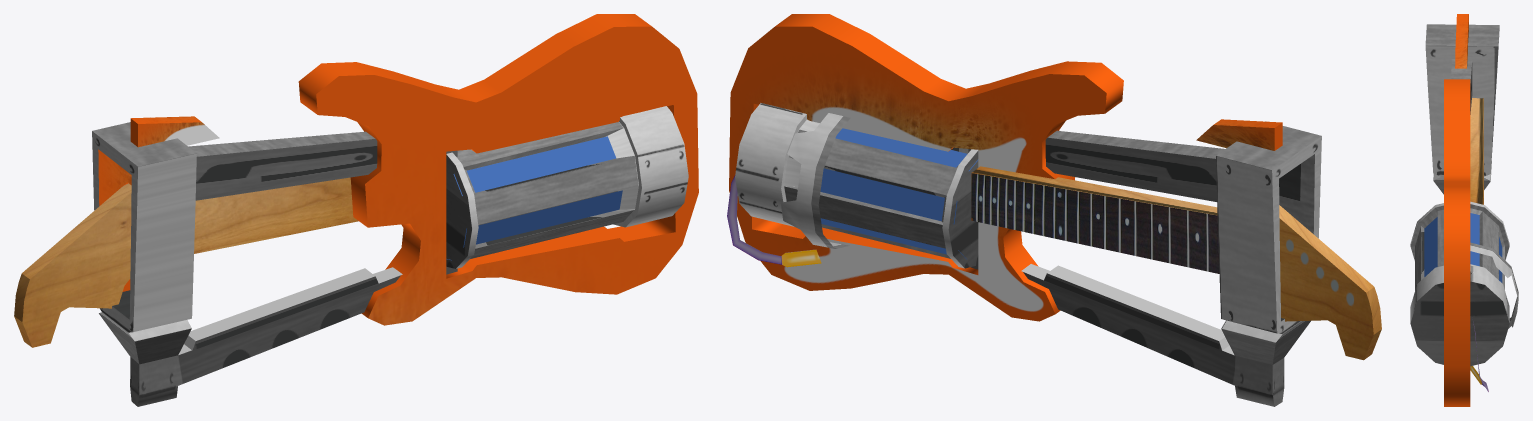
File: stratGun.fbx
The picture shows the model from 3 angles, left to right: view 1: azimuth 30°, elevation 25°; view 2: azimuth 150°, elevation 25°; view 3: azimuth 270°, elevation 25°; orthographic projection. The views are drawn at different scales.
Visible parts, largest first — view 1: strat, rayGun, chamber, neck, charge3, charge4; view 2: strat, rayGun, neck, chamber, chamberThing, charge1, charge2, cord, charge6; view 3: strat, chamber, rayGun, neck, chamberThing, charge3, charge2, cord.
Boxes of the visible parts, x1,y1,x2,y2 form: strat: (298, 14, 698, 325); rayGun: (92, 116, 457, 406); chamber: (446, 106, 688, 268); neck: (14, 177, 358, 347); charge3: (453, 136, 615, 195); charge4: (463, 190, 622, 247); strat: (729, 14, 1123, 321); rayGun: (968, 119, 1321, 406); neck: (971, 166, 1381, 360); chamber: (735, 103, 978, 268); chamberThing: (780, 113, 850, 248); charge1: (820, 168, 957, 224); charge2: (835, 128, 978, 171); cord: (727, 175, 821, 267); charge6: (820, 218, 966, 259); strat: (1444, 79, 1470, 406); chamber: (1410, 201, 1509, 366); rayGun: (1425, 14, 1499, 194); neck: (1470, 98, 1483, 204); chamberThing: (1470, 242, 1518, 328); charge3: (1424, 217, 1437, 276); charge2: (1470, 213, 1479, 266); cord: (1470, 319, 1488, 391).
Bounding box in the file's own units: 5.37 × 2.26 × 1.01.
2 materials, 1 textured.
